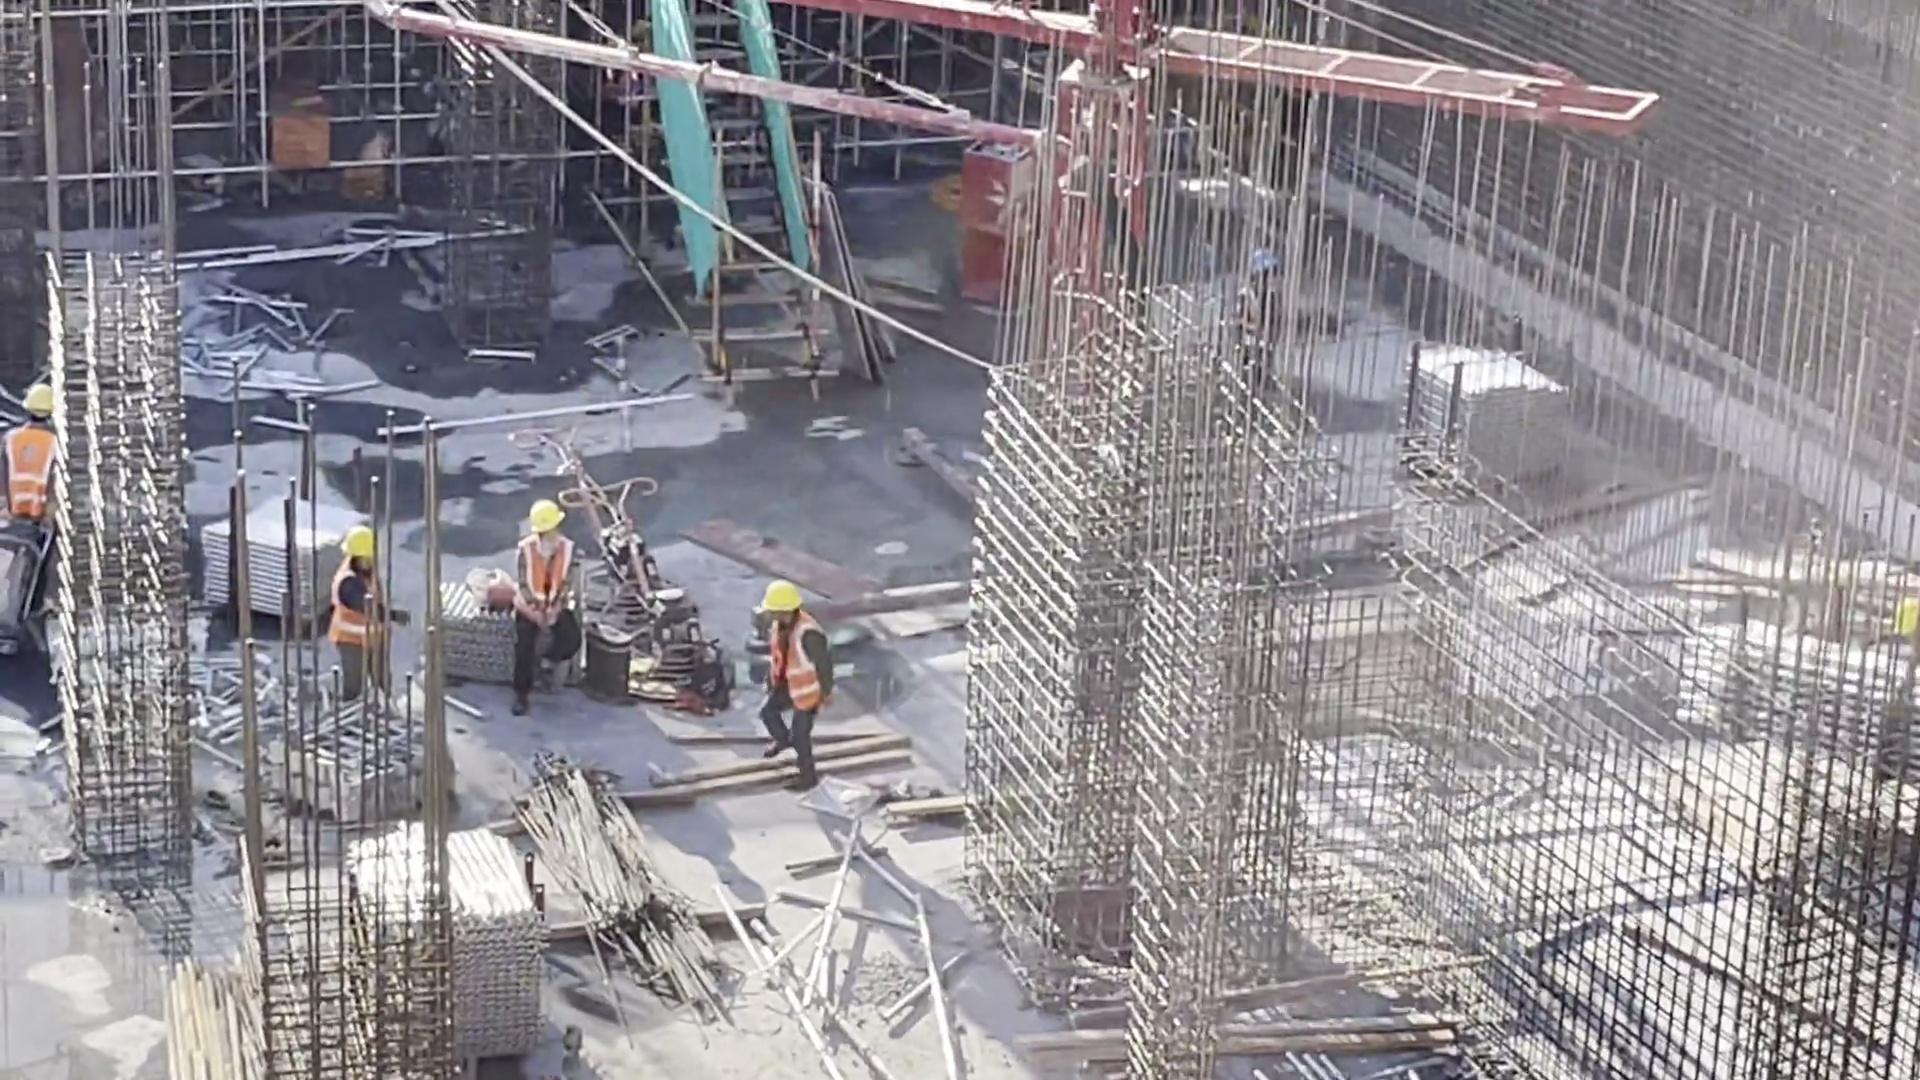helmet: (755, 580, 812, 628), (18, 390, 62, 435), (336, 528, 386, 565), (529, 501, 575, 539), (1244, 243, 1281, 279)
person: (306, 501, 415, 712), (506, 502, 592, 698), (759, 578, 836, 790), (1224, 241, 1310, 417), (7, 368, 67, 567)
vest: (758, 618, 834, 722), (518, 539, 577, 624), (4, 427, 58, 520), (334, 572, 395, 641), (1240, 290, 1294, 368)
